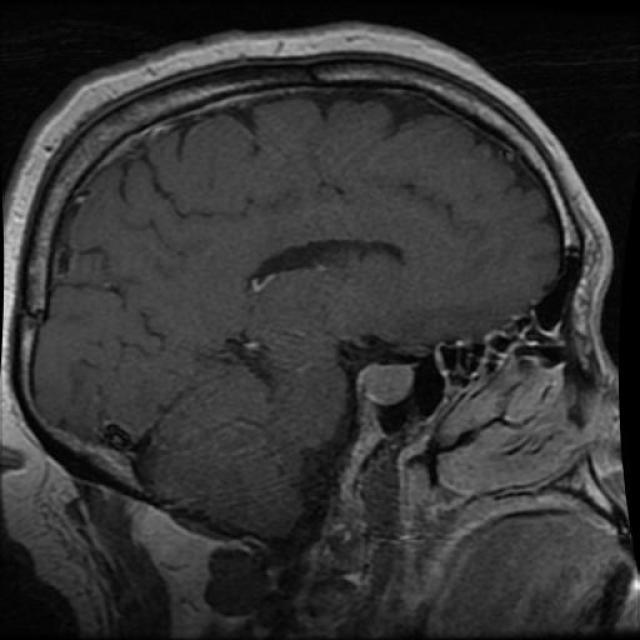pituitary: (339, 351, 438, 424)
